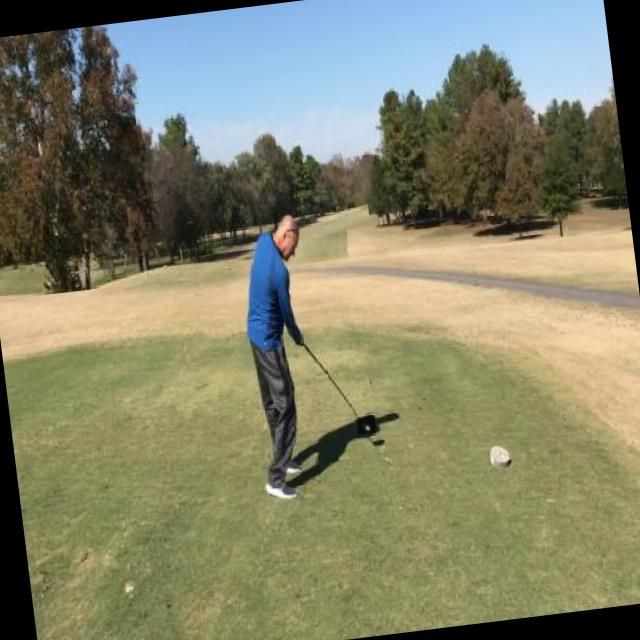club head: (356, 413, 376, 434)
